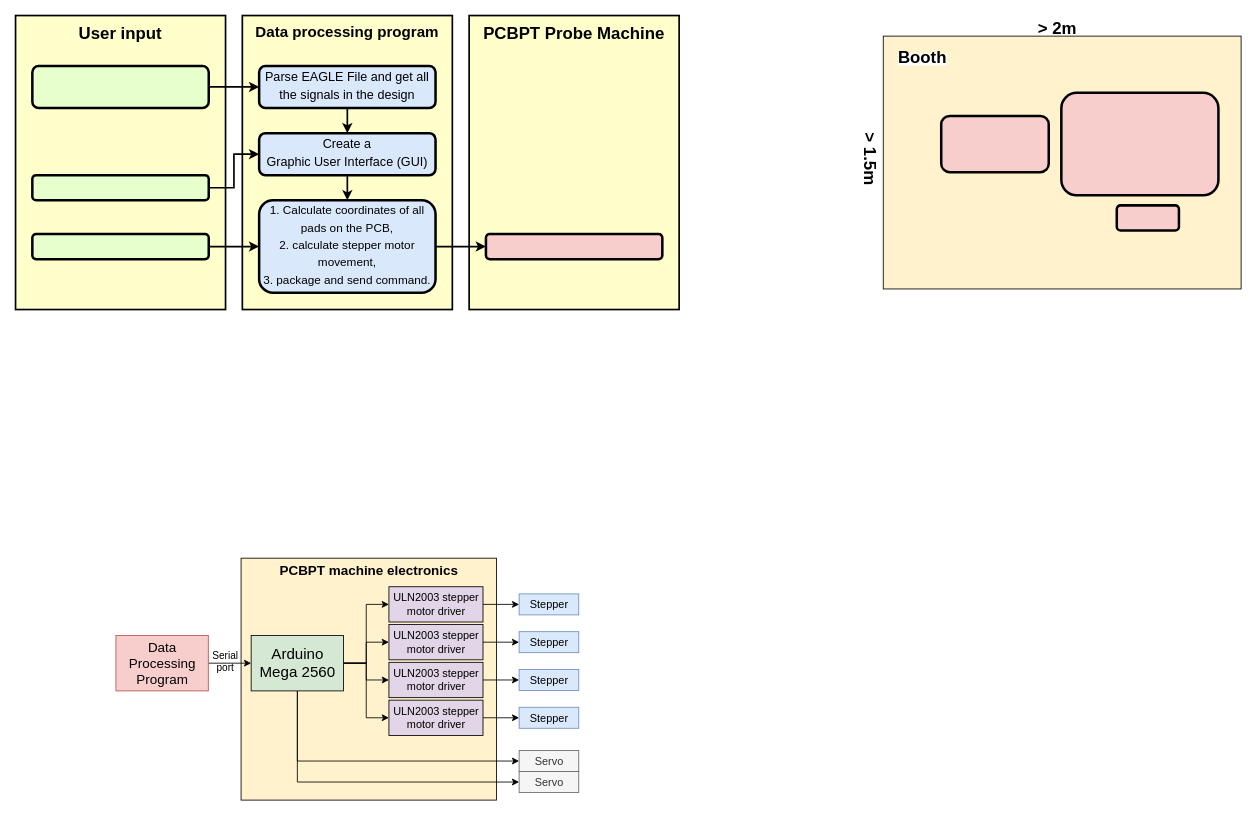
The diagram is 1256 pixels wide and 815 high, and some of its shapes have lost their labels. Here are the shapes that lost their labels. From the top down, the centre of each, then its label:
At point 120,86: "EAGLE PCB Layout file (.brd file)".
At point 995,143: "Poster stand".
At point 1139,143: "Table".
At point 120,187: "Board orientation".
At point 1147,217: "Chair".
At point 120,246: "Signal selections".
At point 573,246: "Robotically probe the pads".
